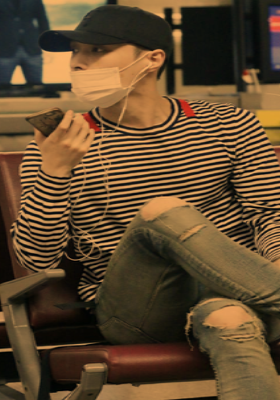mask_weared_incorrect: (68, 43, 149, 108)
